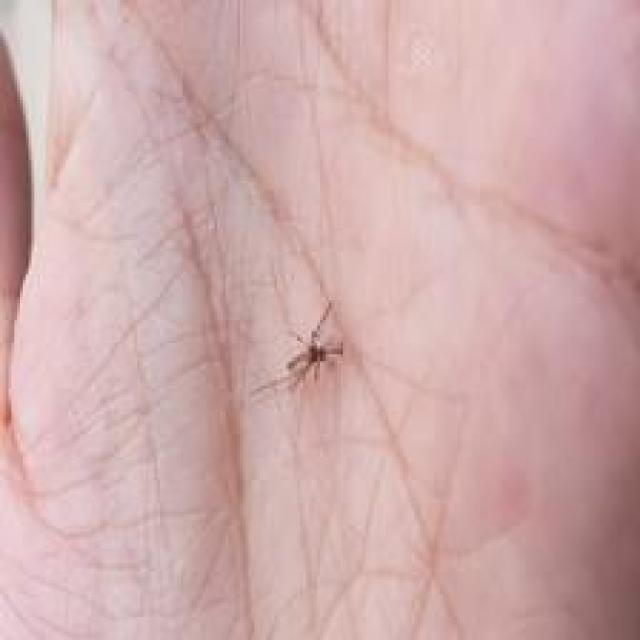Culex: (248, 300, 346, 400)
